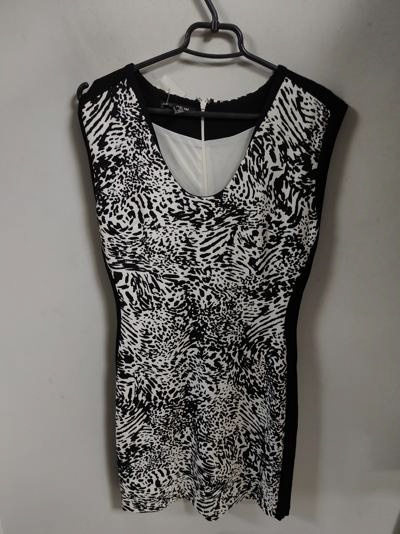Dress: (67, 31, 370, 522)
